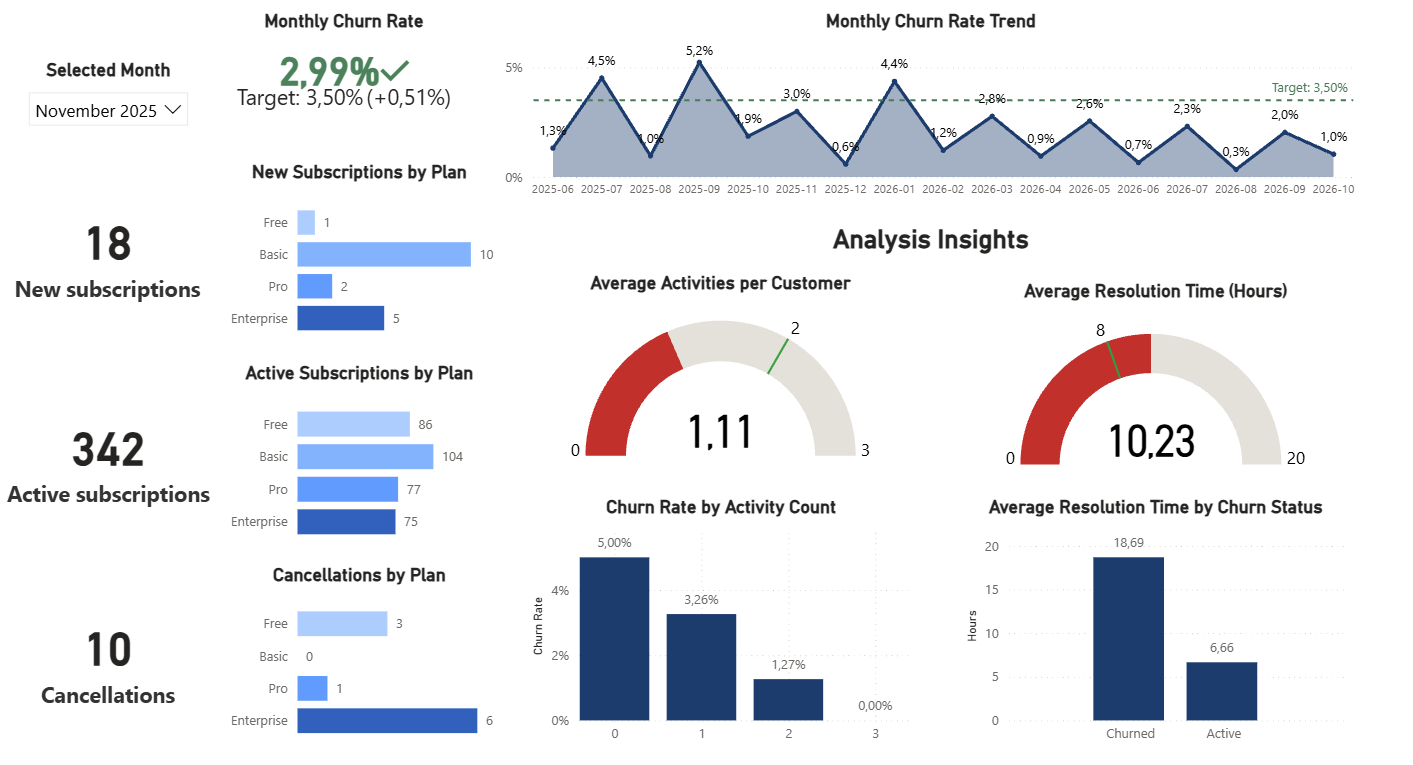

This screenshot's page, from the dashboard's own definition file:
{"tool":"powerbi","page":{"name":"Raport","canvas":[1280,720],"ordinal":0},"visuals":[{"type":"kpi","title":"Monthly Churn Rate","fields":{"Indicator":["customer_month_churn_updated.Churn_Rate"],"TrendLine":["customer_month_churn_updated.month_start"],"Goal":["customer_month_churn_updated.TargetChirnRate"]},"box":[206.8,16.3,232.1,118.8],"z":0},{"type":"gauge","title":"Average Resolution Time (Hours)","fields":{"Y":["Avg(customer_month_churn_updated.avg_resolution_hours)"],"TargetValue":["customer_month_churn_updated.TargerAvgResolutionTime"]},"box":[928.6,267.5,298.3,184.1],"z":1000},{"type":"gauge","title":"Average Activities per Customer","fields":{"TargetValue":["customer_month_churn_updated.TargetAvgActivities"],"Y":["Avg(customer_month_churn_updated.activity_count)"]},"box":[524.1,260.3,298.3,191.3],"z":2000},{"type":"card","fields":{"Values":["Sum(customer_month_churn_updated.signup_in_month)"]},"box":[0,169,206.8,146.4],"z":3000},{"type":"card","fields":{"Values":["Sum(customer_month_churn_updated.active_at_month_end)"]},"box":[1,360.4,206.8,145.4],"z":4000},{"type":"card","fields":{"Values":["Sum(customer_month_churn_updated.cancelled_in_month)"]},"box":[0,546.8,207.9,144.4],"z":5000},{"type":"slicer","title":"Selected Month","fields":{"Values":["customer_month_churn_updated.Reporting Month"]},"box":[20.5,62.5,167.9,72.7],"z":6000},{"type":"lineChart","title":"Monthly Churn Rate Trend","fields":{"Y":["customer_month_churn_updated.Churn_Rate"],"Category":["customer_month_churn_updated.month_start"]},"box":[467,16.3,802.5,184.1],"z":7000},{"type":"clusteredBarChart","title":"Cancellations by Plan","fields":{"Category":["customer_month_churn_updated.plan"],"Y":["Sum(customer_month_churn_updated.cancelled_in_month)"]},"box":[207.9,531.5,259.1,175.1],"z":8000},{"type":"clusteredBarChart","title":"New Subscriptions by Plan","fields":{"Category":["customer_month_churn_updated.plan"],"Y":["Sum(customer_month_churn_updated.signup_in_month)"]},"box":[207.9,156.7,259.1,175.1],"z":9000},{"type":"clusteredBarChart","title":"Active Subscriptions by Plan","fields":{"Category":["customer_month_churn_updated.plan"],"Y":["Sum(customer_month_churn_updated.active_at_month_end)"]},"box":[207.9,344.1,259.1,178.2],"z":10000},{"type":"clusteredColumnChart","title":"Churn Rate by Activity Count","fields":{"Y":["customer_month_churn_updated.Churn_Rate"],"Category":["customer_month_churn_updated.activity_count"]},"box":[493.3,467.9,360.9,238.5],"z":11000},{"type":"clusteredColumnChart","title":"Average Resolution Time by Churn Status","fields":{"Category":["customer_month_churn_updated.churn_status"],"Y":["Avg(customer_month_churn_updated.avg_resolution_hours)"]},"box":[896.8,467.9,361.8,238.5],"z":12000},{"type":"textbox","box":[467,211.3,802.5,41.7],"z":13000}]}

Visuals, with their boxes on the page's 1280x720 design canvas (x1, y1, x2, y2). These are canvas units, not pixel positions in the 1413x765 screenshot, which may show the page scaled, cropped or inside an application window:
"Monthly Churn Rate" kpi: [x1=207, y1=16, x2=439, y2=135]
"Average Resolution Time (Hours)" gauge: [x1=929, y1=268, x2=1227, y2=452]
"Average Activities per Customer" gauge: [x1=524, y1=260, x2=822, y2=452]
card - Sum(customer_month_churn_updated.signup_in_month): [x1=0, y1=169, x2=207, y2=315]
card - Sum(customer_month_churn_updated.active_at_month_end): [x1=1, y1=360, x2=208, y2=506]
card - Sum(customer_month_churn_updated.cancelled_in_month): [x1=0, y1=547, x2=208, y2=691]
"Selected Month" slicer: [x1=20, y1=62, x2=188, y2=135]
"Monthly Churn Rate Trend" lineChart: [x1=467, y1=16, x2=1270, y2=200]
"Cancellations by Plan" clusteredBarChart: [x1=208, y1=532, x2=467, y2=707]
"New Subscriptions by Plan" clusteredBarChart: [x1=208, y1=157, x2=467, y2=332]
"Active Subscriptions by Plan" clusteredBarChart: [x1=208, y1=344, x2=467, y2=522]
"Churn Rate by Activity Count" clusteredColumnChart: [x1=493, y1=468, x2=854, y2=706]
"Average Resolution Time by Churn Status" clusteredColumnChart: [x1=897, y1=468, x2=1259, y2=706]
textbox: [x1=467, y1=211, x2=1270, y2=253]
